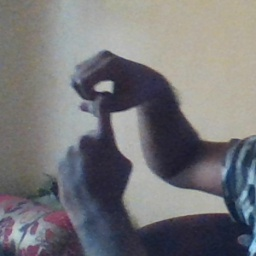Q: (53, 47, 155, 197)
